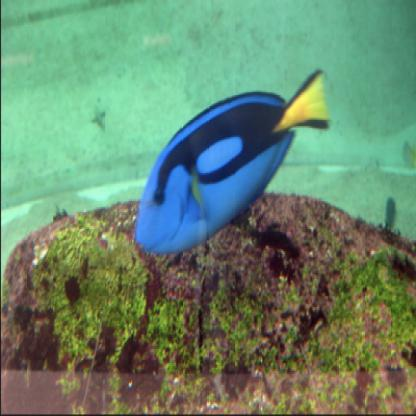surgeon: (135, 65, 330, 256)
